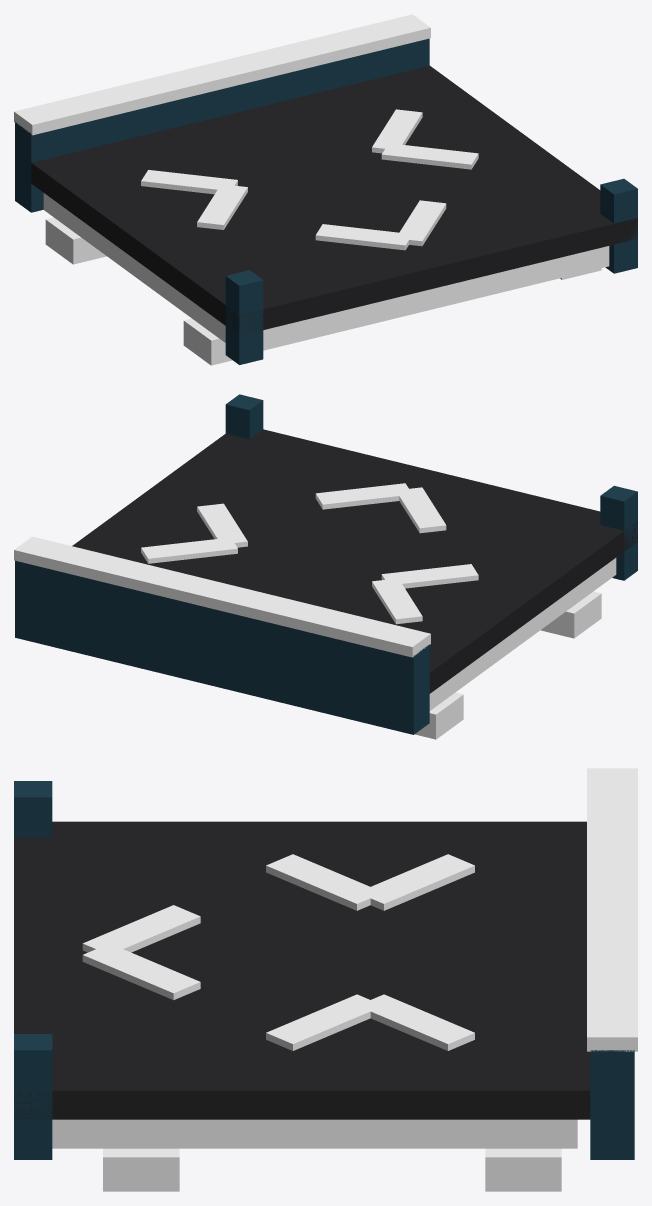
File: belt_sides.obj
3 views of the same model, one above another, from view 1: azimuth 30°, elevation 25°; view 2: azimuth 150°, elevation 25°; view 3: azimuth 270°, elevation 25° (orthographic). The views are drawn at different scales.
Parts seen in each view (by area): view 1: Belt; view 2: Belt; view 3: Belt.
Boxes of the visible parts, left/top/right/bottom form: Belt: left=14, top=14, right=637, bottom=365; Belt: left=14, top=394, right=637, bottom=739; Belt: left=14, top=768, right=637, bottom=1191.
Size of the model in its own units: 1 by 0.2725 by 0.98.
